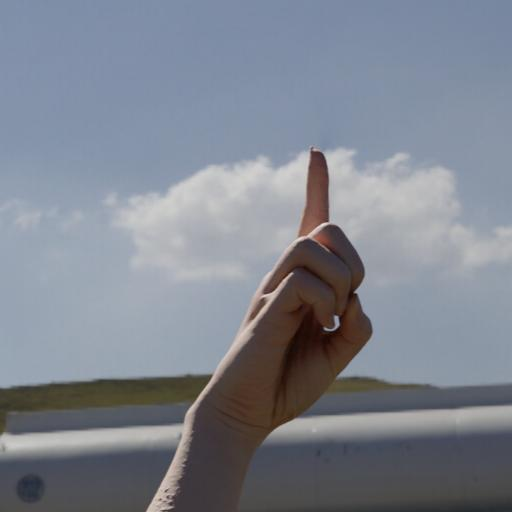D: (208, 147, 377, 439)
